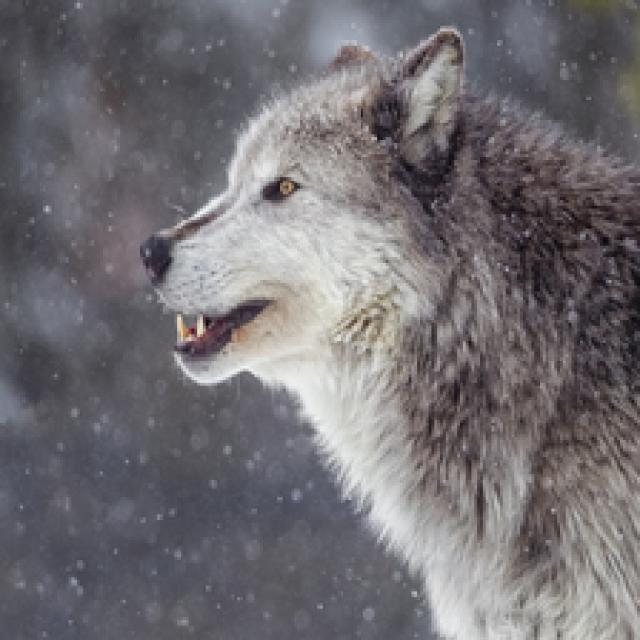wolf: (133, 27, 640, 640)
